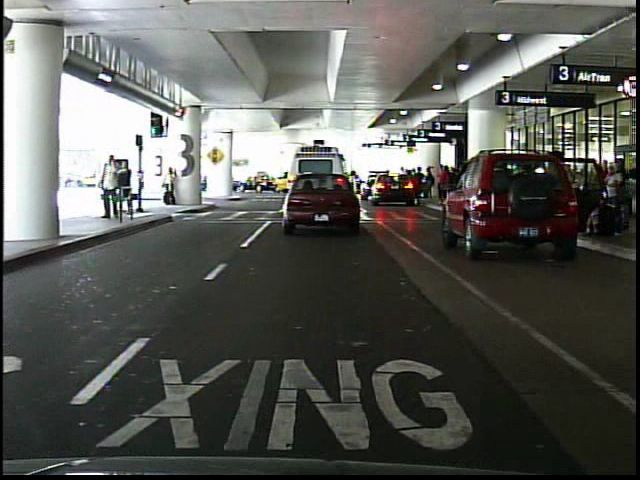person: (98, 152, 123, 225), (118, 156, 135, 219), (160, 167, 180, 210), (435, 165, 452, 204)
